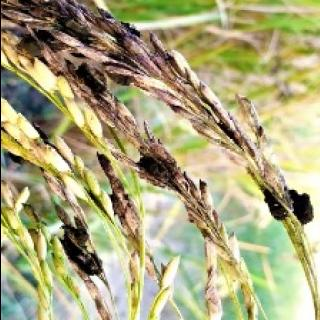Gosong-Palsu: (60, 219, 103, 276), (286, 187, 310, 226), (136, 157, 167, 187), (264, 191, 286, 220)
